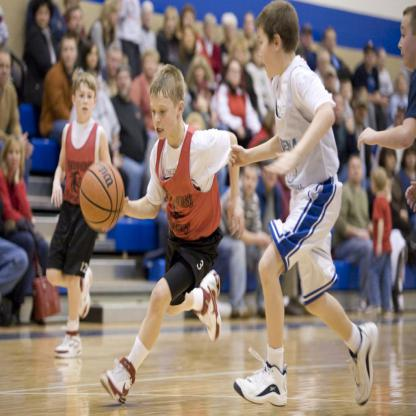face: (259, 29, 284, 77), (151, 95, 178, 139), (400, 20, 416, 68), (75, 85, 96, 119), (264, 159, 278, 187), (244, 168, 258, 195), (63, 42, 77, 68), (7, 144, 21, 168), (327, 78, 340, 103), (118, 71, 131, 95), (1, 55, 12, 83), (110, 51, 122, 76), (229, 64, 241, 87), (38, 6, 50, 28), (72, 10, 83, 32), (350, 159, 361, 181), (166, 13, 177, 34), (357, 98, 367, 121), (303, 25, 313, 48), (196, 94, 208, 113), (226, 20, 237, 40), (333, 97, 343, 119), (377, 50, 388, 70), (146, 58, 157, 77), (206, 19, 216, 39), (367, 46, 377, 66), (88, 48, 98, 67), (184, 12, 194, 31), (327, 31, 337, 50), (144, 6, 154, 24), (184, 30, 194, 48), (246, 14, 255, 34), (387, 150, 396, 170), (398, 74, 408, 92), (407, 151, 416, 170), (321, 55, 331, 72), (236, 48, 246, 64), (344, 83, 352, 102), (111, 3, 119, 22), (196, 64, 206, 78)
